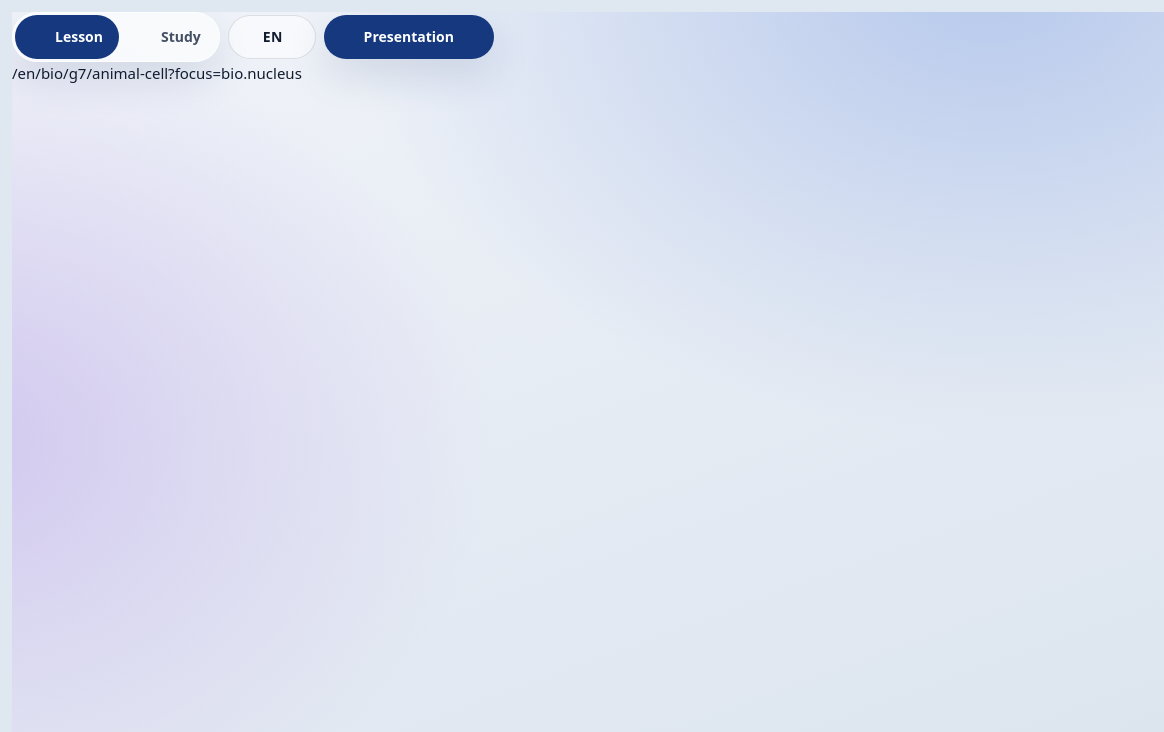
Test: Topic toolbar: mode — lesson by default, ?view=study explores › Lesson pressed without a param, Study sets ?view=study, back to Lesson drops it; each has a hint
The width and height of the screenshot is (1164, 732).
What coordinates should you click on to do the following:
click the button "Study"
I would click on:
 (169, 37)
Its box is [121,15,217,59].
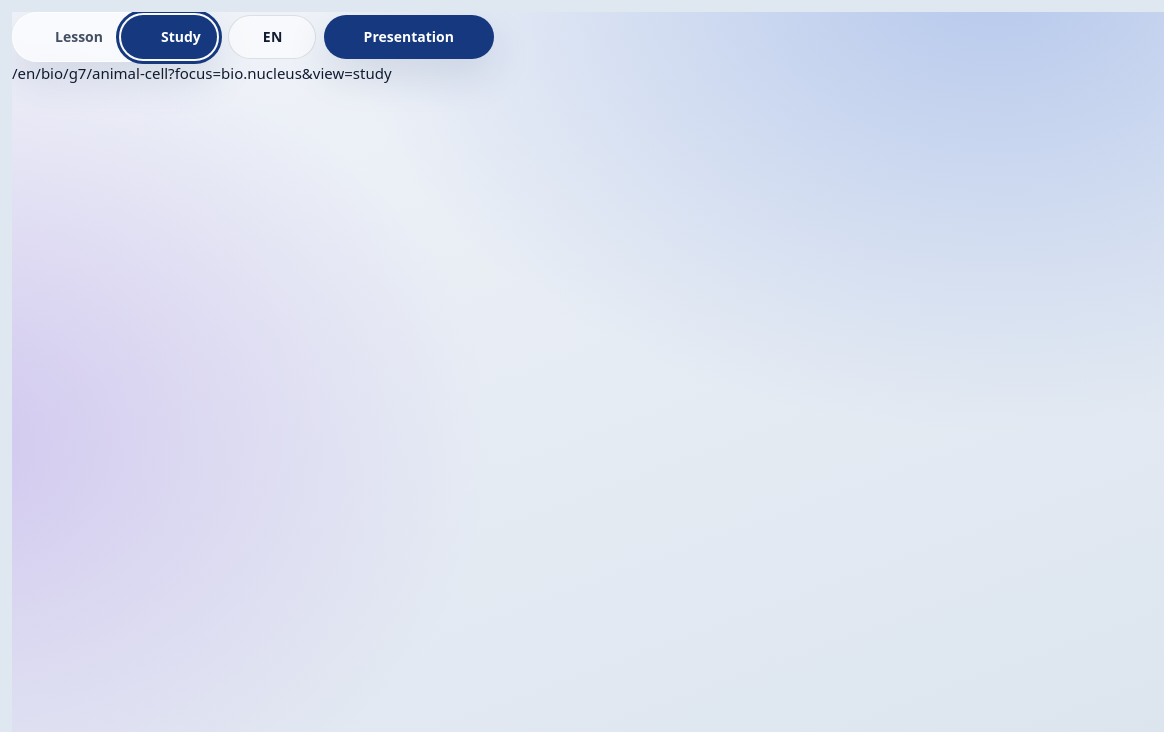
Expected: the text with test id "location" reads "/en/bio/g7/animal-cell?focus=bio.nucleus&view=study", [12,63,392,83]
What coordinates should you click on to do the following:
click the button "Lesson"
I would click on:
 (67, 37)
Its box is [15,15,119,59].
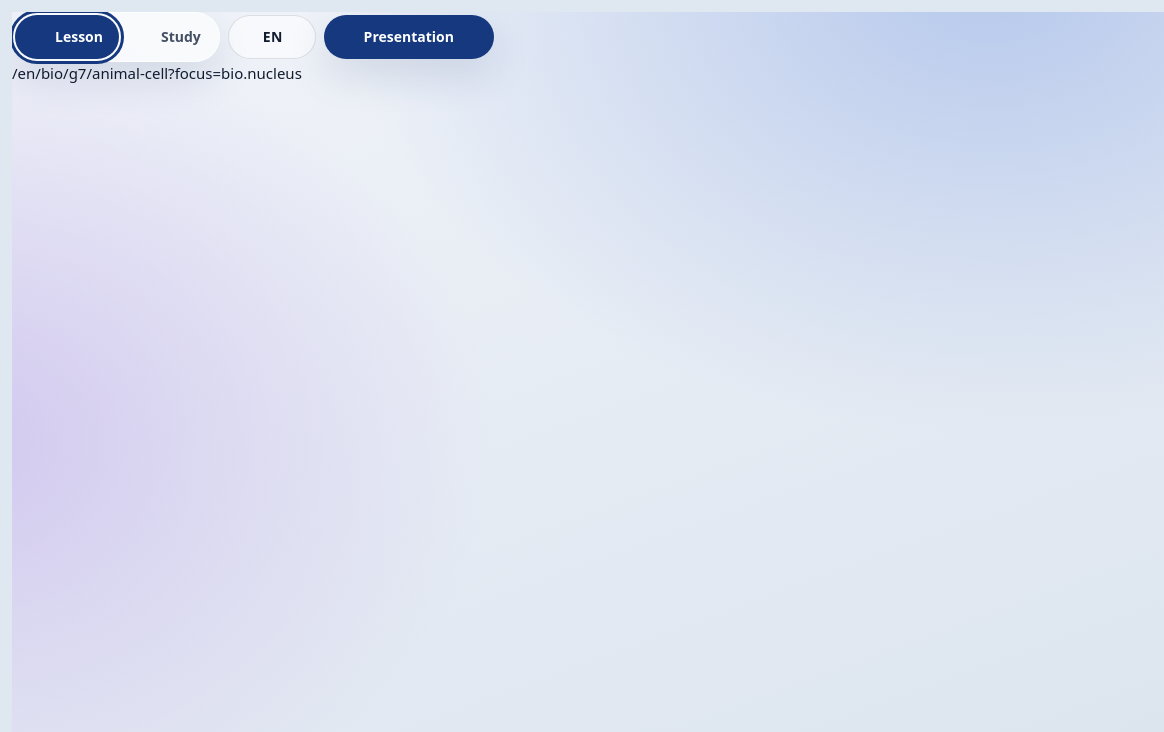
Expected: the text with test id "location" reads "/en/bio/g7/animal-cell?focus=bio.nucleus", [12,63,302,83]
